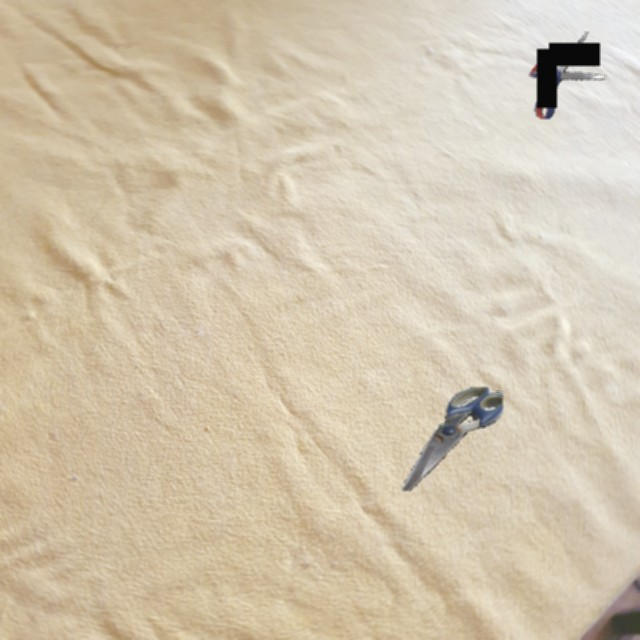scissors: (401, 387, 503, 491), (529, 32, 607, 119)
